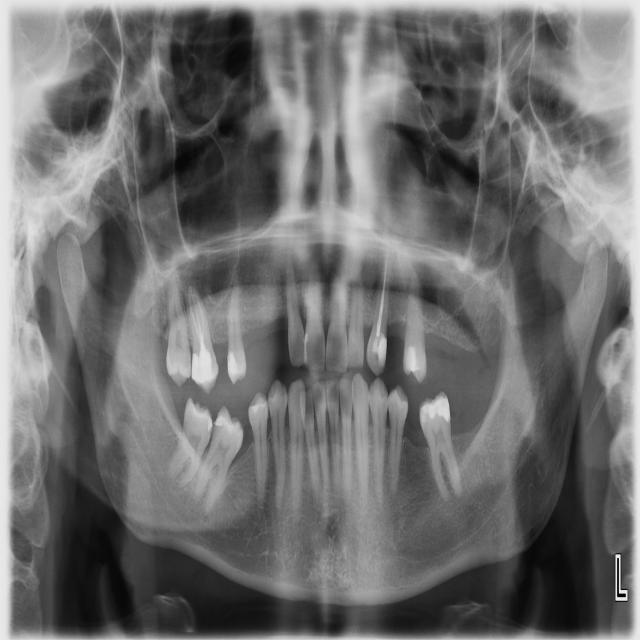mandibula: (57, 230, 608, 605)
